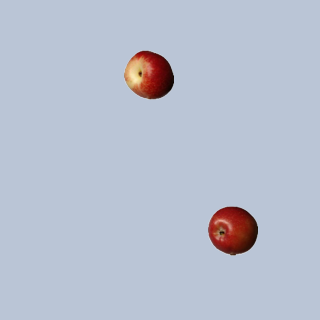Apple Braeburn: (207, 205, 257, 255)
Nectarine: (123, 49, 173, 99)
